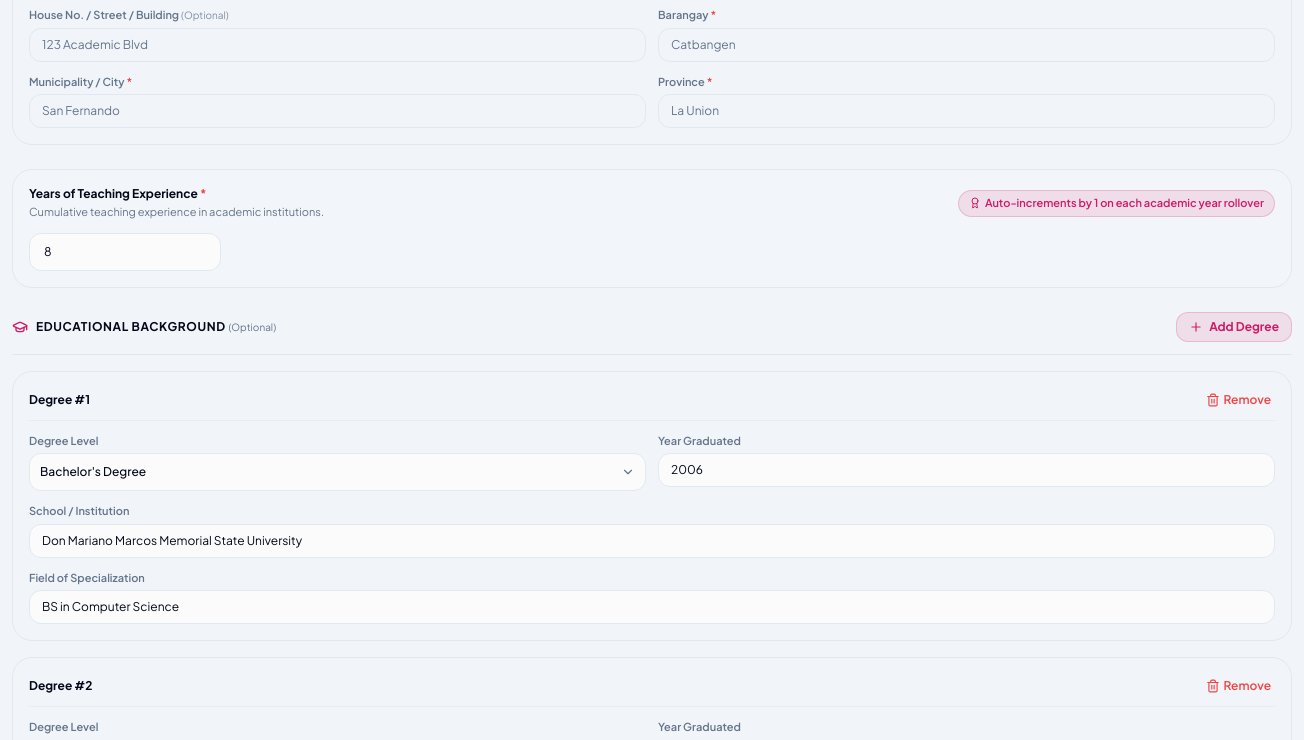
FacultyProfileForm Component › can remove an educational degree
The image size is (1304, 740).
(page scrolled)
Note: Remove first degree
Click the button with aria-label "remove degree".
click(1238, 400)  # box [1202, 388, 1275, 412]
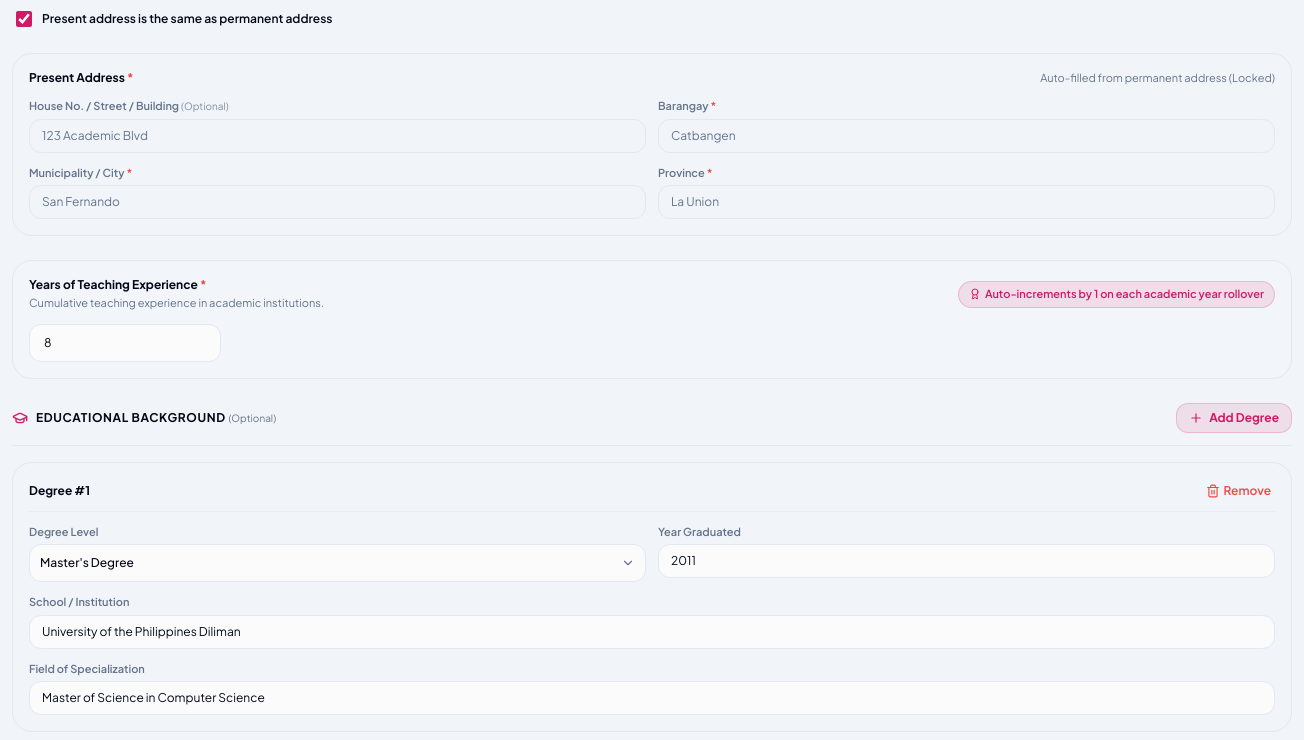
Expected: the number of fields labelled "School / Institution" is 1, [29, 614, 1275, 648]
Expected: the field showing "University of the Philippines Diliman" is shown, [29, 614, 1275, 648]
